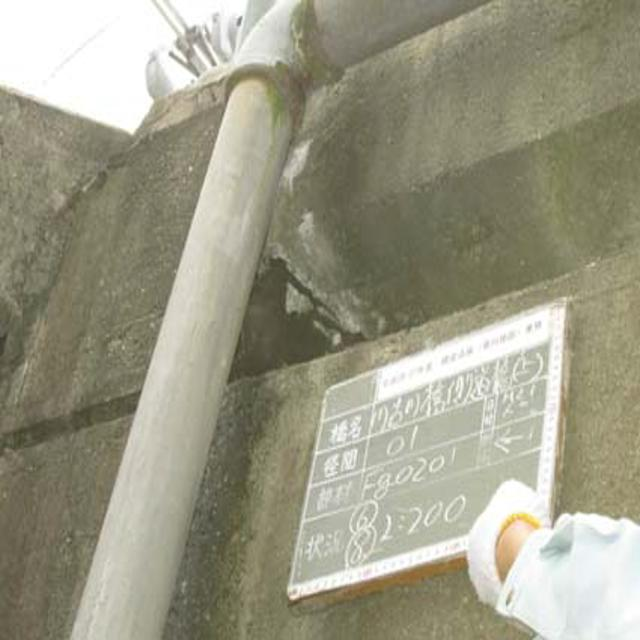freelime: (256, 146, 370, 361)
